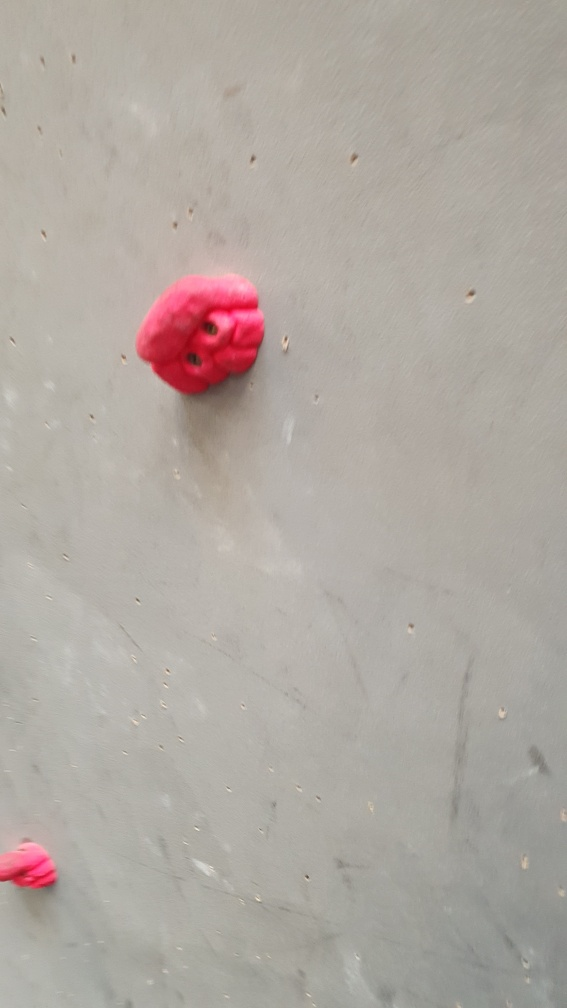Jug: (134, 267, 266, 403), (1, 838, 58, 893)
